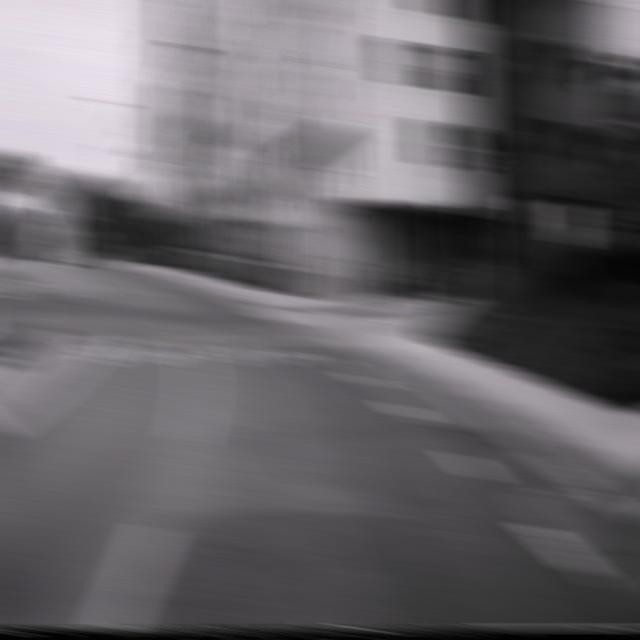stop: (8, 158, 51, 207), (431, 164, 473, 214)
